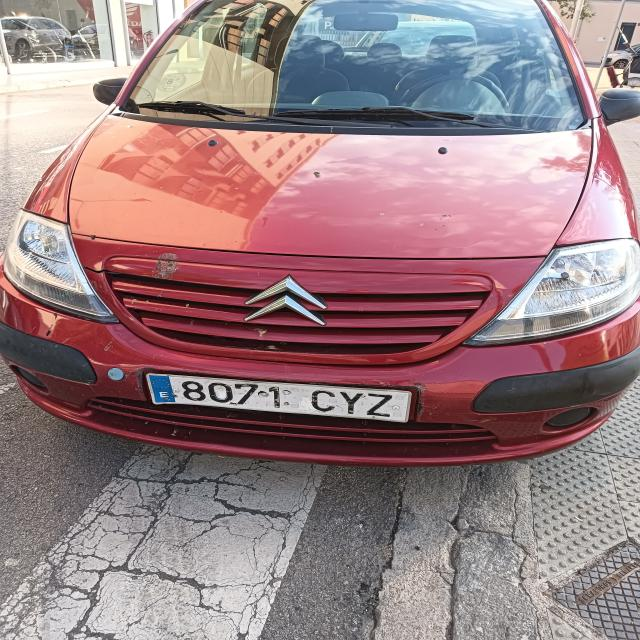license_plate-34Td: (146, 373, 412, 423)
